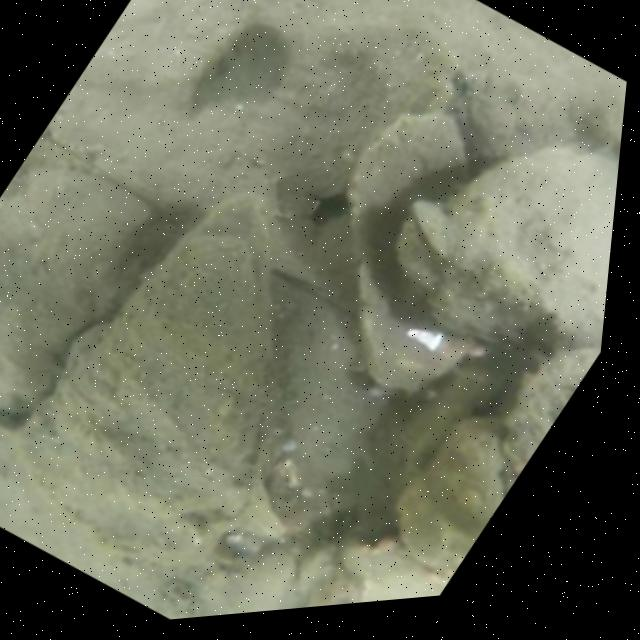Oyster-Closed: (21, 195, 278, 563)
Oyster-Indeterminate: (399, 147, 618, 356), (0, 173, 148, 419), (352, 110, 478, 394), (369, 0, 574, 158), (396, 419, 509, 575), (82, 0, 260, 90), (500, 350, 601, 490), (160, 542, 302, 617), (309, 557, 448, 607)
